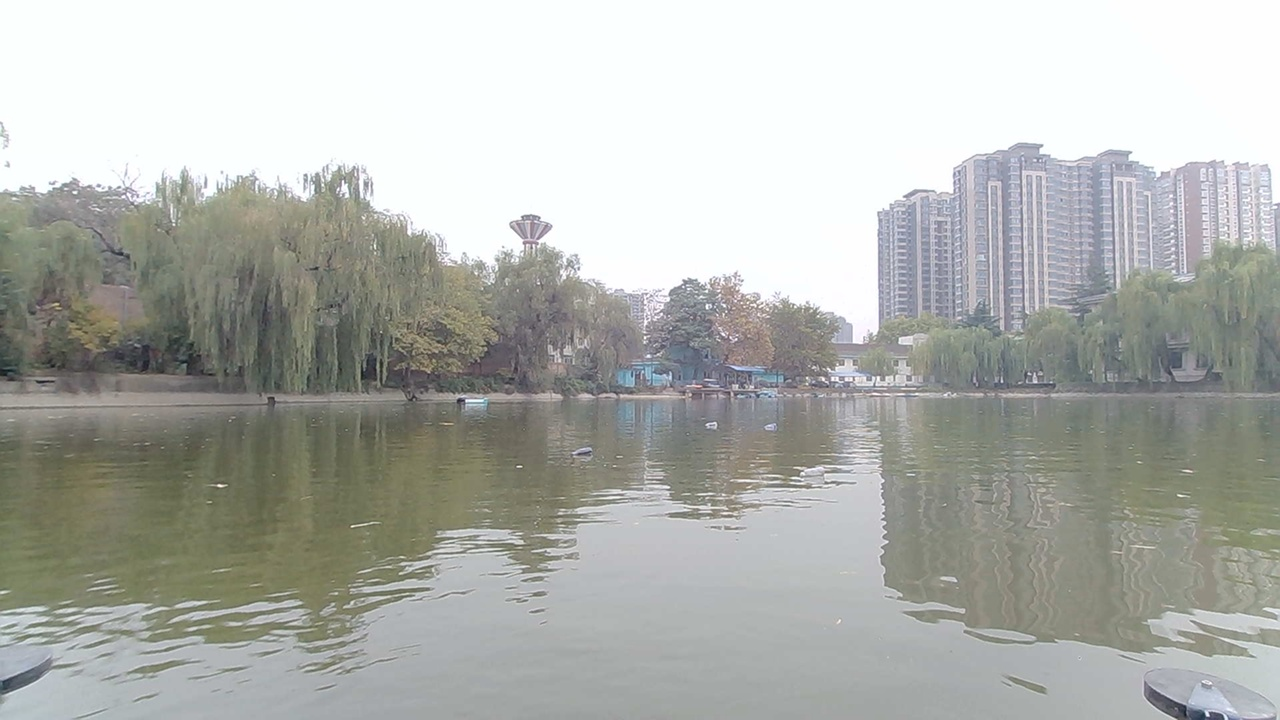bottle: (571, 442, 601, 464), (802, 463, 832, 484), (750, 420, 783, 437), (702, 409, 724, 428)
